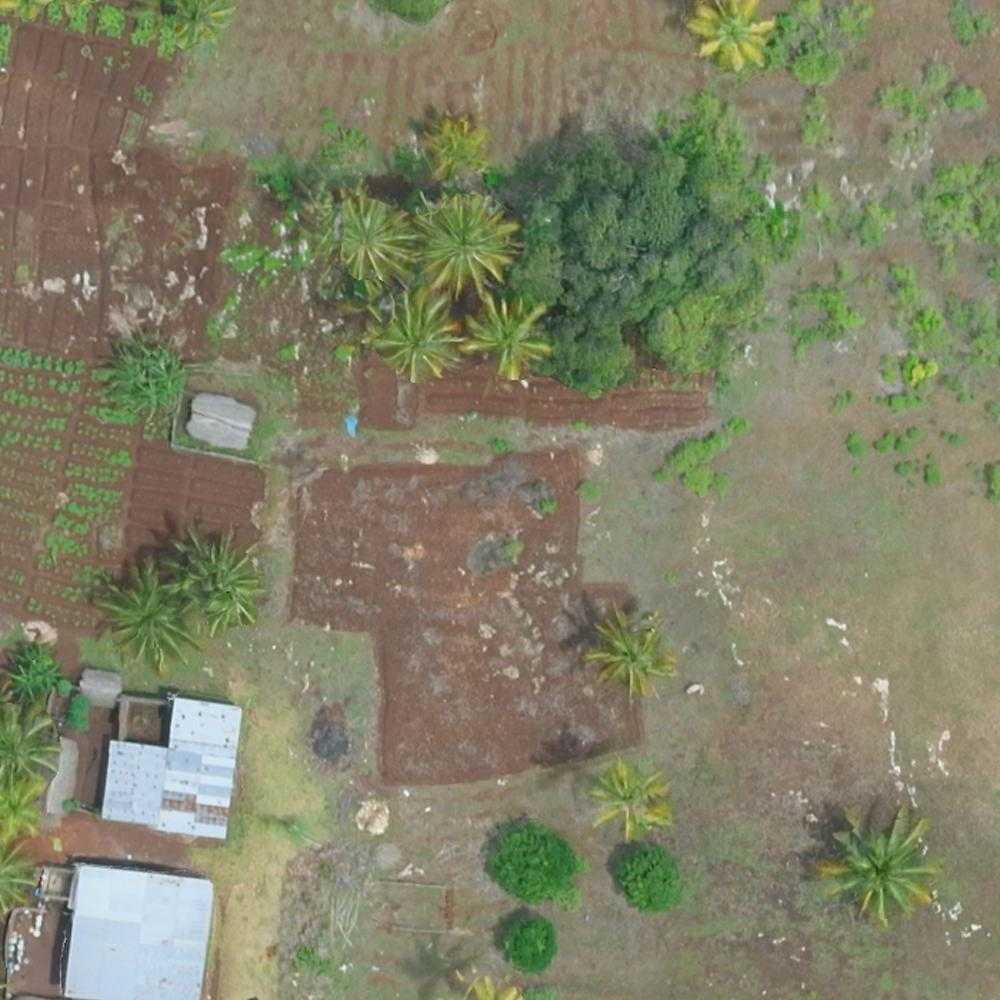Palm: (818, 806, 932, 918), (96, 562, 193, 668), (420, 193, 512, 288), (374, 288, 464, 381), (334, 194, 420, 283), (172, 533, 257, 618), (465, 294, 547, 381), (591, 611, 672, 697), (693, 5, 778, 75), (595, 761, 670, 833)
